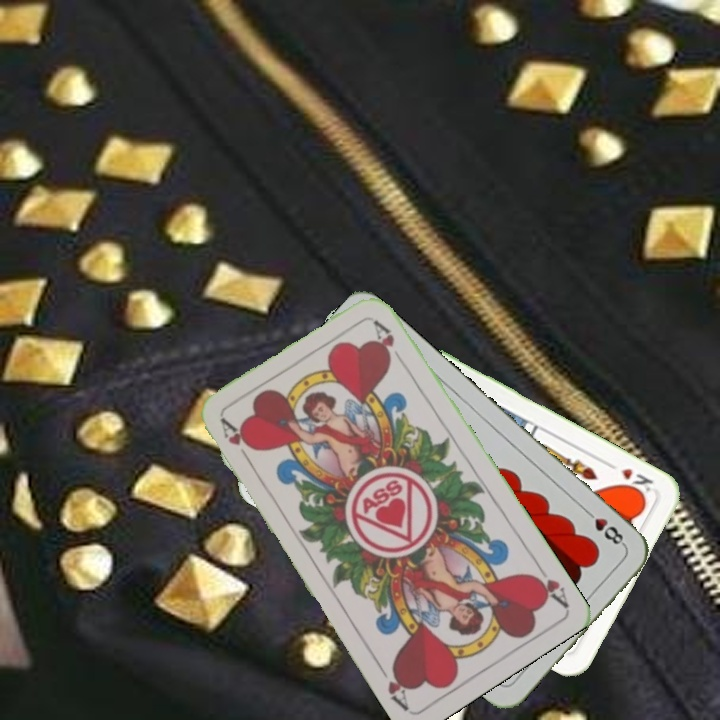H8: (580, 505, 628, 549)
HA: (526, 557, 571, 610), (217, 415, 256, 468)
HK: (602, 457, 656, 499)
